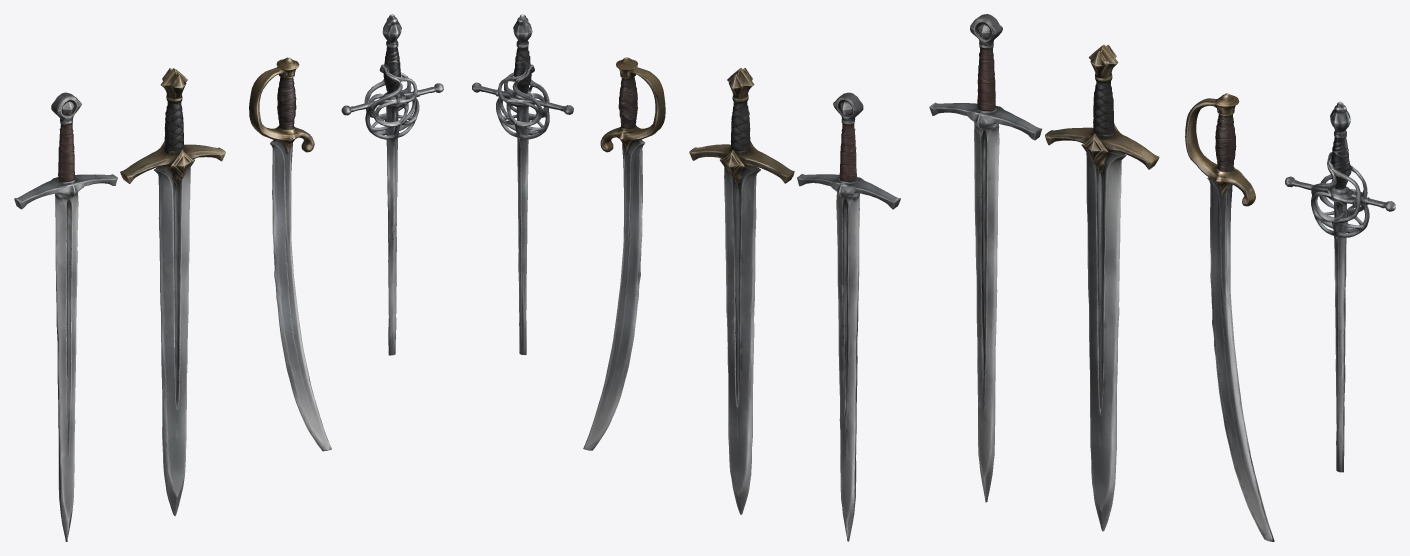
File: swords_2_source.glb
3 views of the same model, side by side, from view 1: azimuth 30°, elevation 25°; view 2: azimuth 150°, elevation 25°; view 3: azimuth 330°, elevation 25° (orthographic). The views are drawn at different scales.
Visible parts, largest first — view 1: tripo_node_9b76232c-c057-4f48-b8ca-a15d28571ae2; view 2: tripo_node_9b76232c-c057-4f48-b8ca-a15d28571ae2; view 3: tripo_node_9b76232c-c057-4f48-b8ca-a15d28571ae2.
Part boxes in pixels (x1=…): tripo_node_9b76232c-c057-4f48-b8ca-a15d28571ae2: x1=14, y1=14, x2=443, y2=541; tripo_node_9b76232c-c057-4f48-b8ca-a15d28571ae2: x1=472, y1=14, x2=900, y2=541; tripo_node_9b76232c-c057-4f48-b8ca-a15d28571ae2: x1=929, y1=14, x2=1395, y2=541.
Bounding box in the file's own units: 0.9962 × 1 × 0.091.
1 material, 1 textured.
